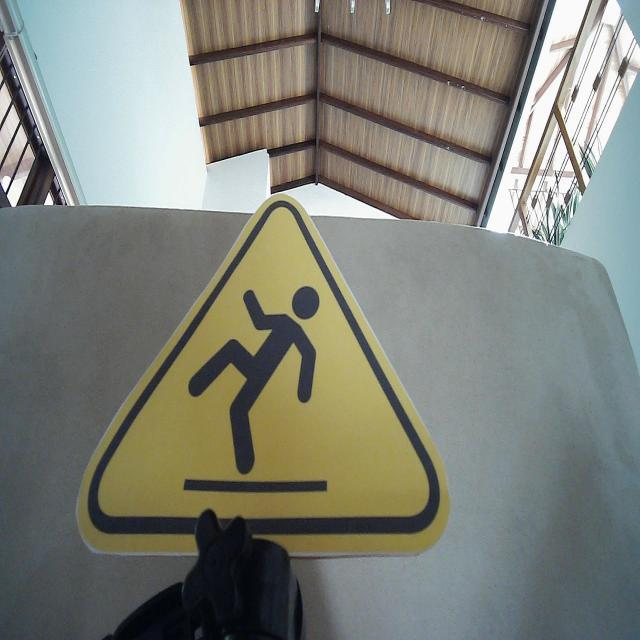slippery_sign: (74, 190, 453, 560)
